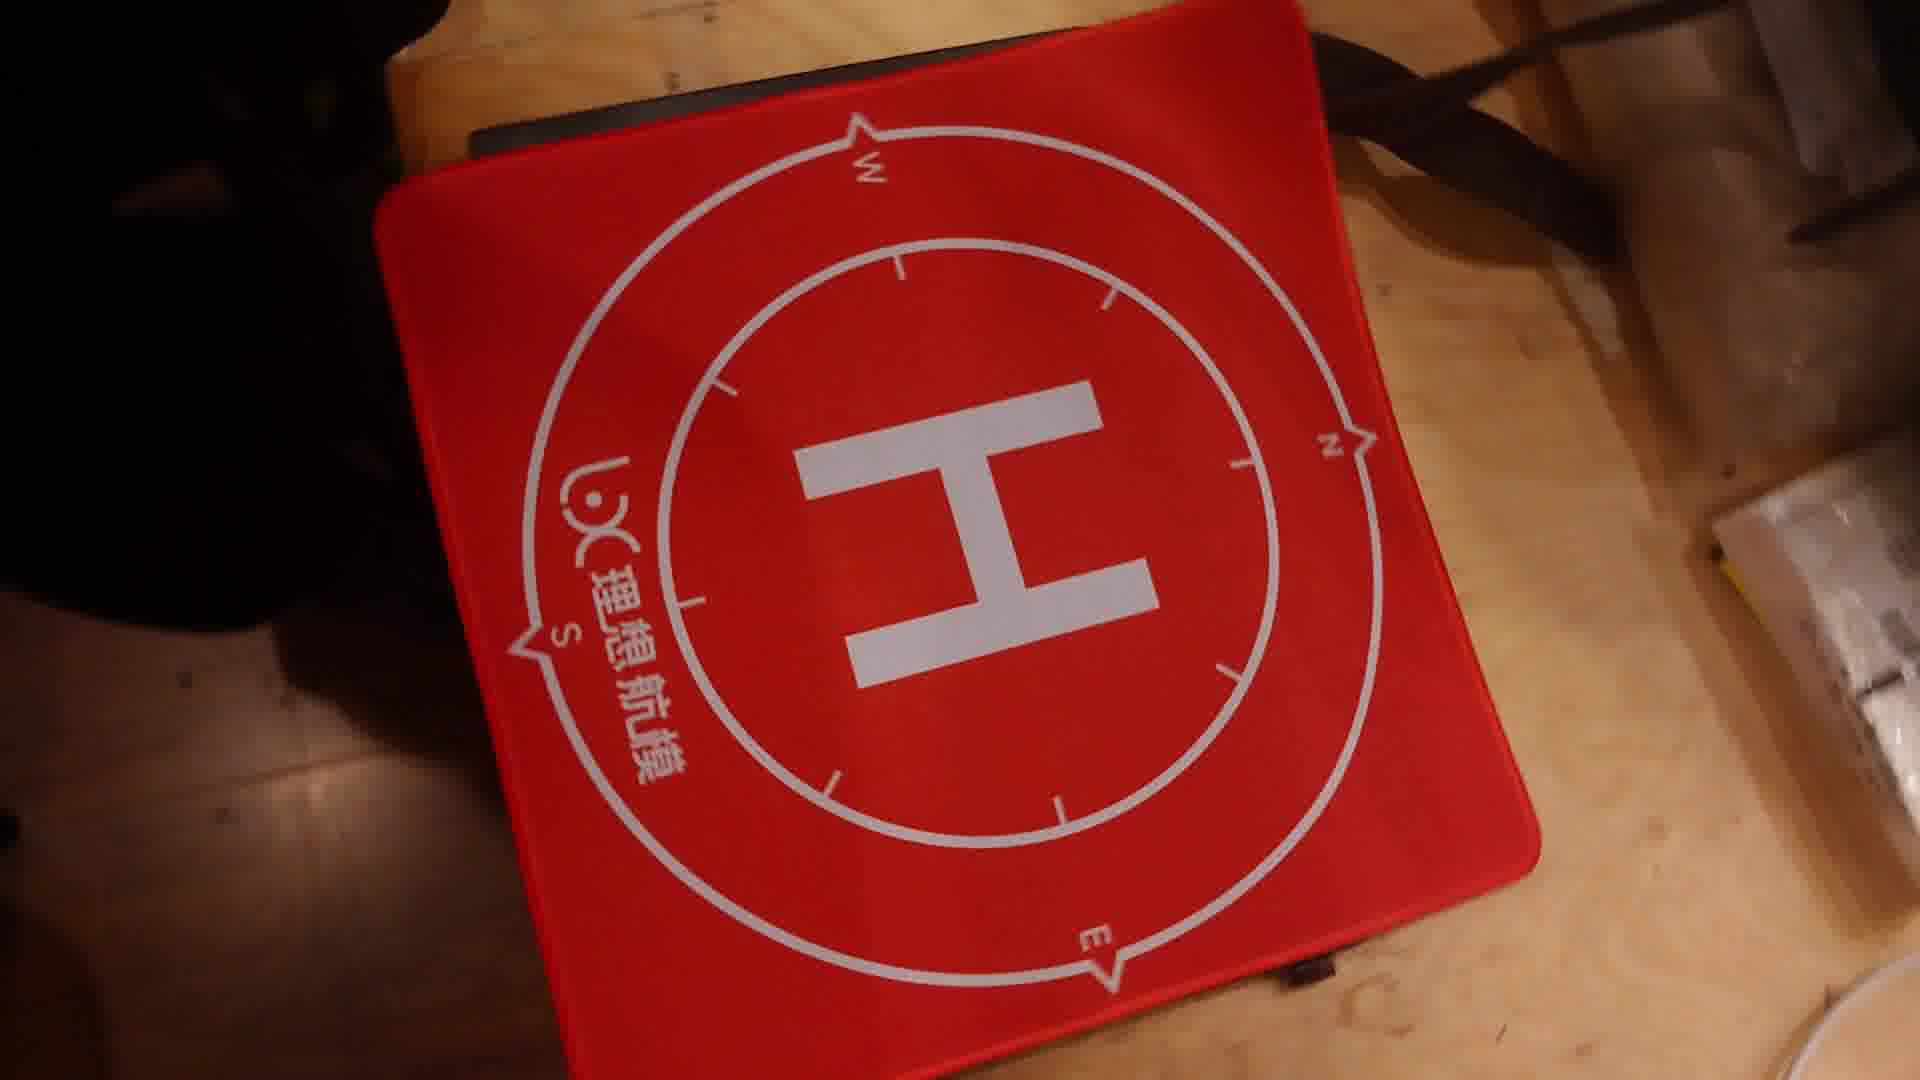H: (796, 378, 1166, 688)
